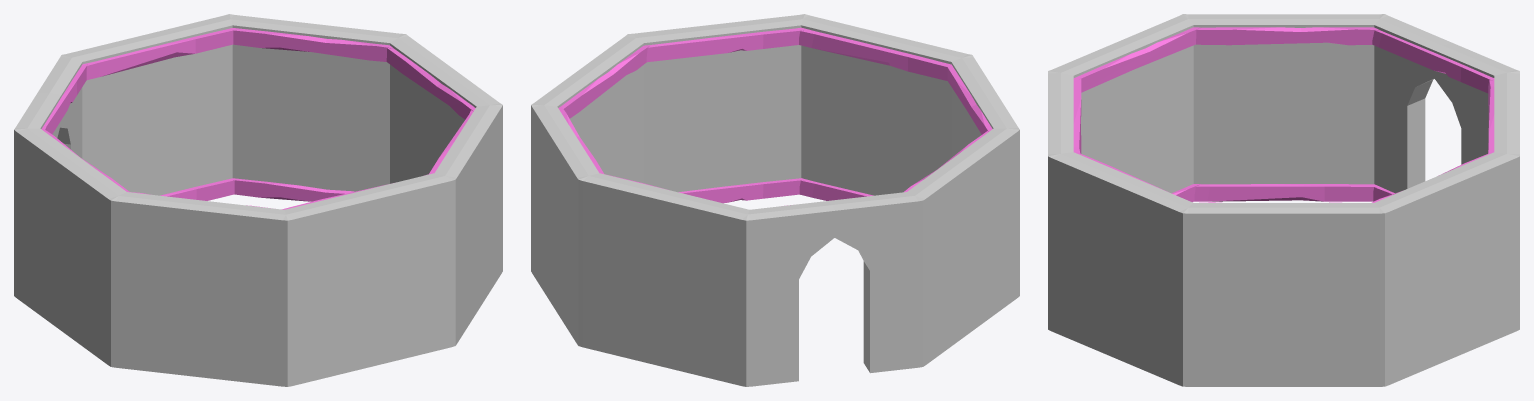
The model's file is SM_Tower_Round_7m_Entrance_Corner_Fantasy_Base.fbx.
3 renders of one model, left to right at view 1: azimuth 30°, elevation 25°; view 2: azimuth 150°, elevation 25°; view 3: azimuth 270°, elevation 25°, orthographic. The views are drawn at different scales.
Visible parts, largest first — view 1: SM_Tower_Round_7m_Entrance_Corner_Fantasy_Base; view 2: SM_Tower_Round_7m_Entrance_Corner_Fantasy_Base; view 3: SM_Tower_Round_7m_Entrance_Corner_Fantasy_Base.
Part boxes in pixels (x1,y1,x2,y2): SM_Tower_Round_7m_Entrance_Corner_Fantasy_Base: [14, 14, 502, 386]; SM_Tower_Round_7m_Entrance_Corner_Fantasy_Base: [531, 14, 1019, 386]; SM_Tower_Round_7m_Entrance_Corner_Fantasy_Base: [1048, 14, 1519, 386].
Size of the model in its own units: 7.4 by 3.03 by 7.4.
